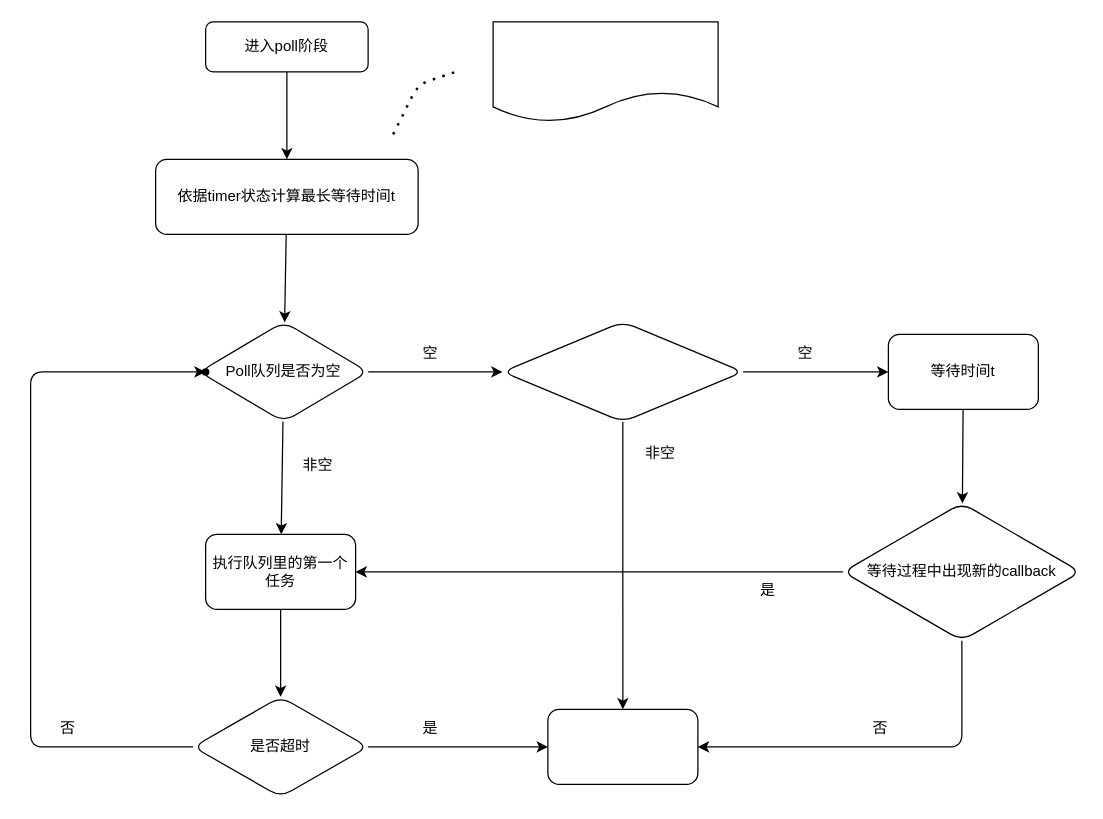
Some shapes in this 1103 by 819 pixel diagram are drawn without their labels. The box of each missing label's shape, as (x1, y1, x2, y2) in pixels:
setImmediate队列是否为空: (501, 321, 743, 422)
t等于离现在最近的timer触发时间减去当前时间: (492, 21, 718, 122)
结束poll阶段: (547, 708, 698, 784)
